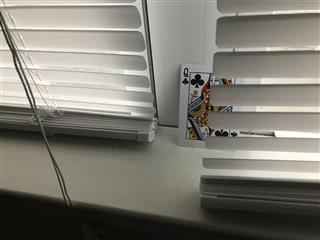QueenOfClubs: (176, 62, 240, 148)
